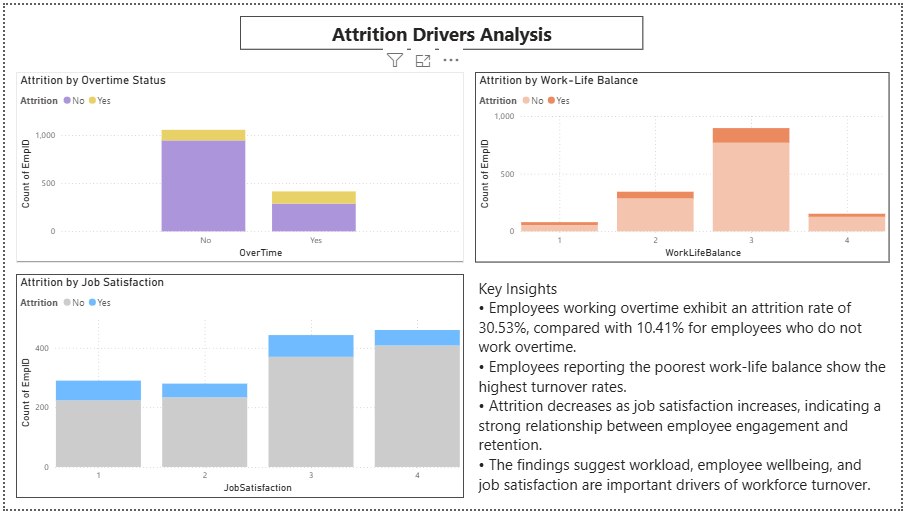

This screenshot's page, from the dashboard's own definition file:
{"tool":"powerbi","page":{"name":"Attrition Drivers","canvas":[1280,720],"ordinal":1},"visuals":[{"type":"textbox","box":[336,16,576,48],"z":0},{"type":"columnChart","title":"Attrition by Overtime Status","fields":{"Category":["HR_Analytics_Cleaned.OverTime"],"Series":["HR_Analytics_Cleaned.Attrition"],"Y":["CountNonNull(HR_Analytics_Cleaned.EmpID)"]},"box":[0,96,672,288],"z":1},{"type":"columnChart","title":"Attrition by Work-Life Balance","fields":{"Category":["HR_Analytics_Cleaned.WorkLifeBalance"],"Series":["HR_Analytics_Cleaned.Attrition"],"Y":["CountNonNull(HR_Analytics_Cleaned.EmpID)"]},"box":[672,96,608,288],"z":2},{"type":"columnChart","title":"Attrition by Job Satisfaction","fields":{"Category":["HR_Analytics_Cleaned.JobSatisfaction"],"Series":["HR_Analytics_Cleaned.Attrition"],"Y":["CountNonNull(HR_Analytics_Cleaned.EmpID)"]},"box":[0,384,672,336],"z":3},{"type":"textbox","box":[672,384,608,336],"z":4}]}

Visuals, with their boxes in screenshot pixels (x1, y1, x2, y2), scaled from the page's 1280x720 canvas onto the 905x515 screenshot:
textbox: {"x1": 238, "y1": 11, "x2": 645, "y2": 46}
"Attrition by Overtime Status" columnChart: {"x1": 0, "y1": 69, "x2": 475, "y2": 275}
"Attrition by Work-Life Balance" columnChart: {"x1": 475, "y1": 69, "x2": 904, "y2": 275}
"Attrition by Job Satisfaction" columnChart: {"x1": 0, "y1": 275, "x2": 475, "y2": 514}
textbox: {"x1": 475, "y1": 275, "x2": 904, "y2": 514}
